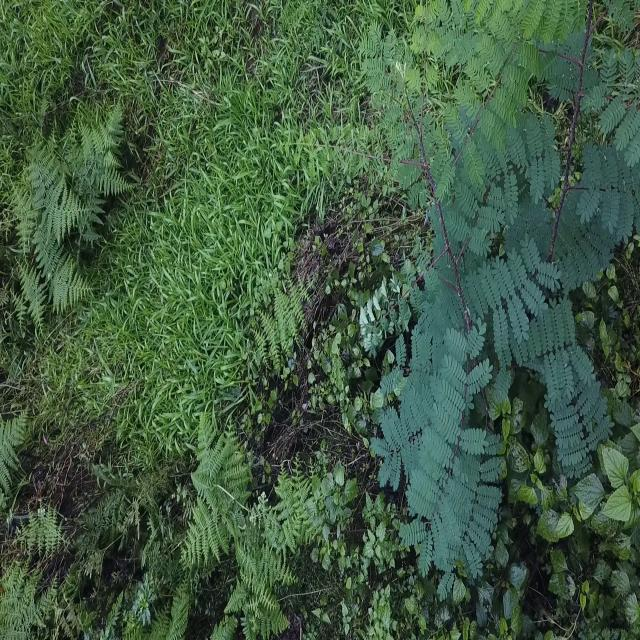Mysore-Thorn-Weed: (350, 0, 640, 609)
